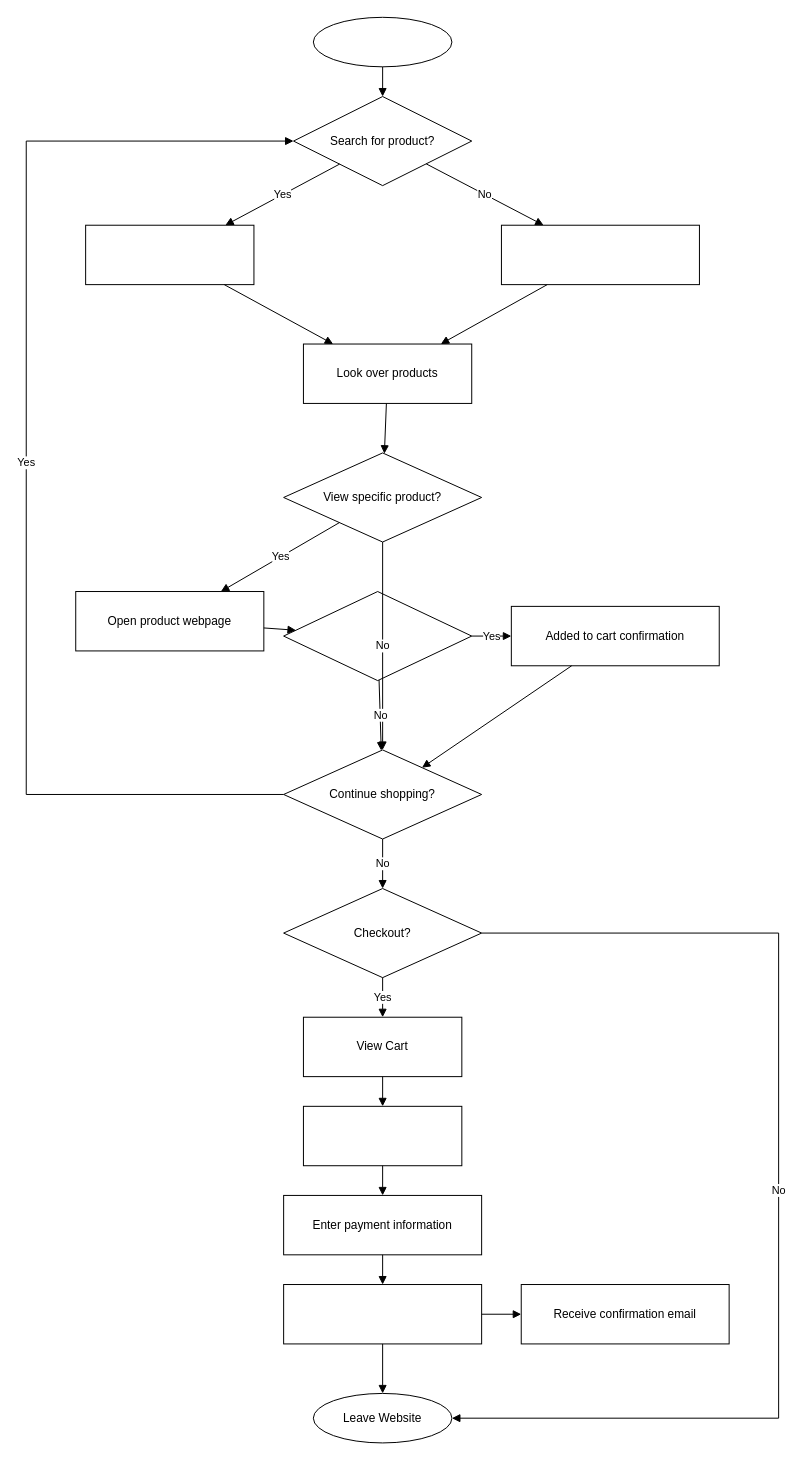
This 804x1460 diagram has some shape labels left out. Each missing label, with the centre of its shape:
Add item to cart?: the point at 377,636
Enter search input: the point at 169,254
Enter Website: the point at 382,41
Explore home page products: the point at 599,254
Order confirmation screen: the point at 382,1314
View Payment: the point at 382,1135
